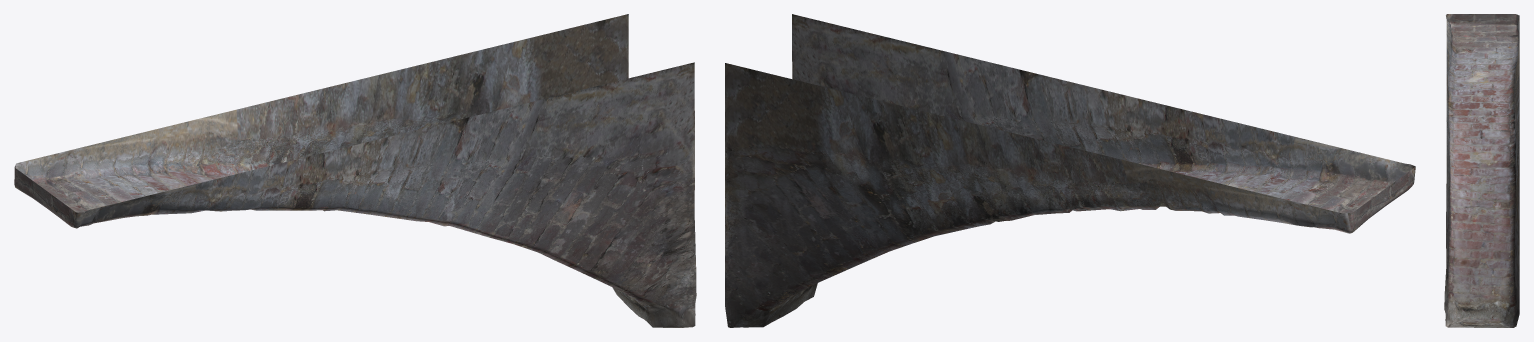
File: sm_CryptArch_01_01.fbx
The picture shows the model from 3 angles, left to right: view 1: azimuth 30°, elevation 25°; view 2: azimuth 150°, elevation 25°; view 3: azimuth 270°, elevation 25°; orthographic projection. The views are drawn at different scales.
Visible parts, largest first — view 1: sm_CryptArch_01_01_LOD0; view 2: sm_CryptArch_01_01_LOD0; view 3: sm_CryptArch_01_01_LOD0.
Boxes of the visible parts, box(x1,y1,x2,y2) form: sm_CryptArch_01_01_LOD0: box(14, 14, 696, 327); sm_CryptArch_01_01_LOD0: box(725, 14, 1415, 327); sm_CryptArch_01_01_LOD0: box(1444, 14, 1519, 327).
Size of the model in its own units: 304 by 58.02 by 126.
